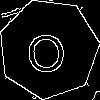O: (24, 24, 67, 74)
